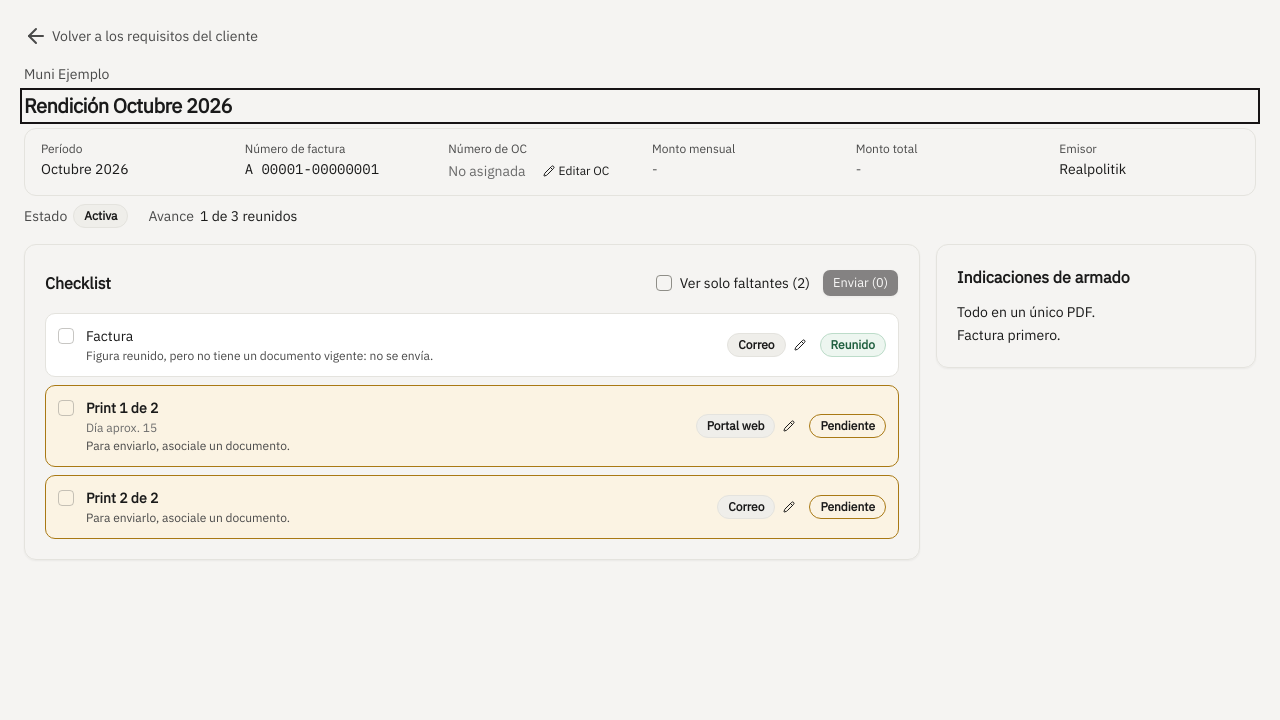
Test case: RendicionDetallePage › "Ver solo faltantes" deja solo los pendientes
The image size is (1280, 720).
Expected: the heading "Rendición Octubre 2026" is shown, [24, 92, 232, 119]
Click the checkbox named "Ver solo faltantes (2)" next to "Ver solo faltantes (". click: (664, 283)
box: [656, 275, 672, 291]
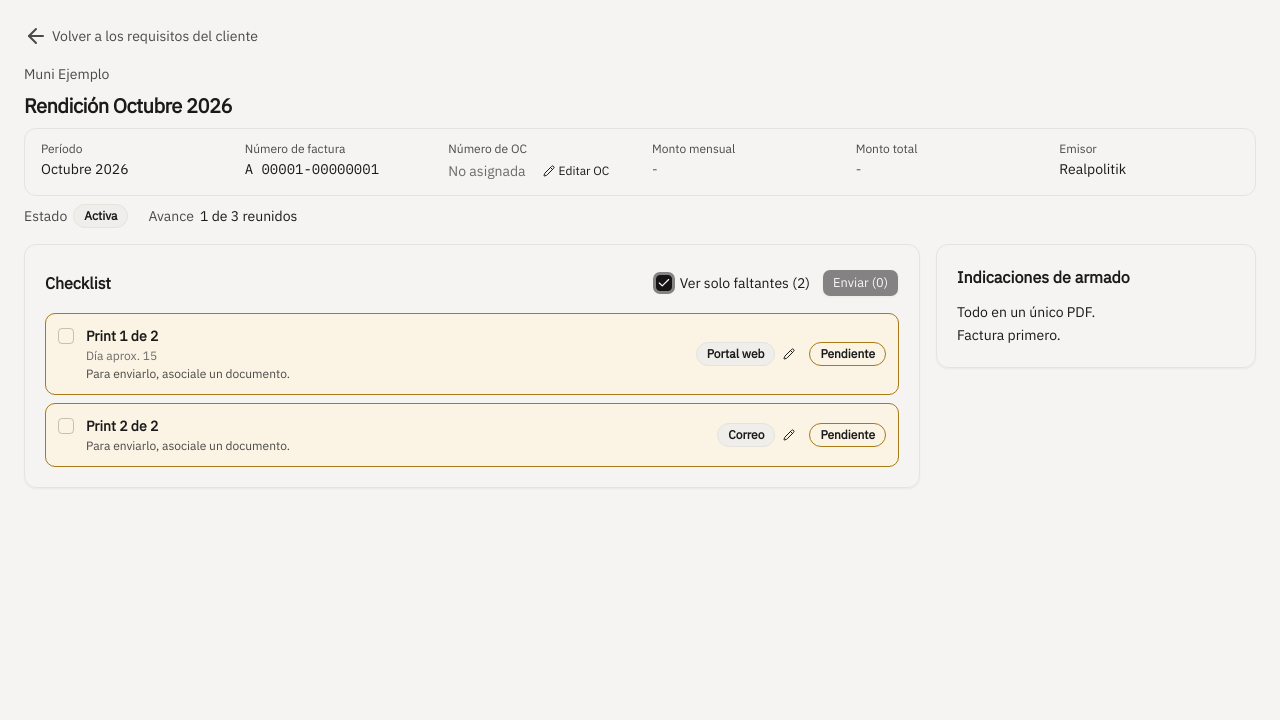
Result: the number of list items is 2 at [45, 313, 899, 395]; [45, 403, 899, 467]
